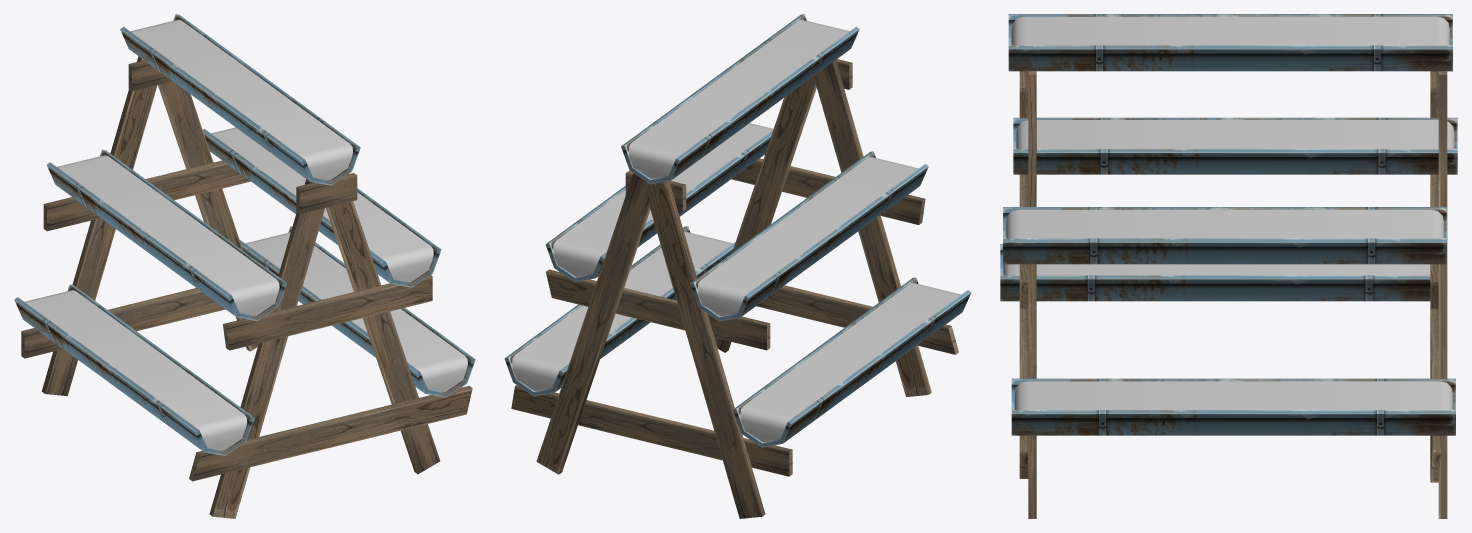
The model's file is gutterPlanter05.fbx.
The picture shows the model from 3 angles, left to right: view 1: azimuth 30°, elevation 25°; view 2: azimuth 150°, elevation 25°; view 3: azimuth 270°, elevation 25°; orthographic projection. The views are drawn at different scales.
Parts seen in each view (by area): view 1: gutterPlanter05; view 2: gutterPlanter05; view 3: gutterPlanter05.
Part boxes in pixels (bbox=[...]): gutterPlanter05: bbox=[14, 14, 475, 518]; gutterPlanter05: bbox=[504, 14, 971, 518]; gutterPlanter05: bbox=[1000, 14, 1457, 518].
Bounding box in the file's own units: 144 × 169 × 163.
